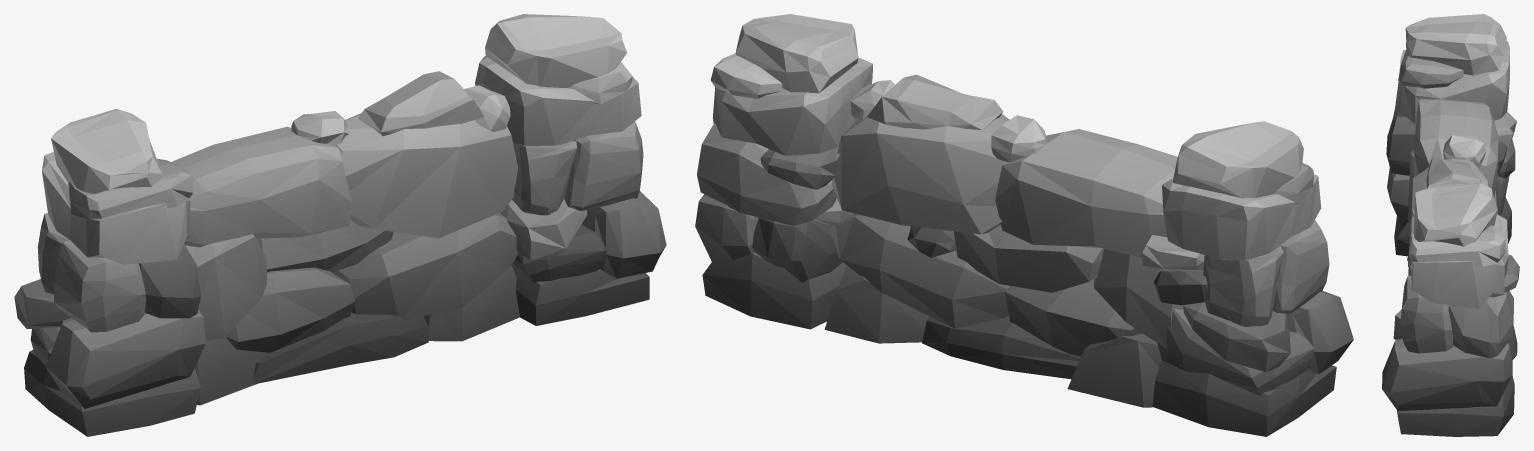
File: RoadFenceStone_Sml-01.FBX
3 views of the same model, side by side, from view 1: azimuth 30°, elevation 25°; view 2: azimuth 150°, elevation 25°; view 3: azimuth 270°, elevation 25° (orthographic). The views are drawn at different scales.
Visible parts, largest first — view 1: RoadFenceStone_Sml-01; view 2: RoadFenceStone_Sml-01; view 3: RoadFenceStone_Sml-01.
Boxes of the visible parts, x1,y1,x2,y2 form: RoadFenceStone_Sml-01: (14,14,666,436); RoadFenceStone_Sml-01: (695,14,1353,436); RoadFenceStone_Sml-01: (1382,14,1519,436).
Size of the model in its own units: 306 by 130 by 76.09.
1 material, 1 textured.
